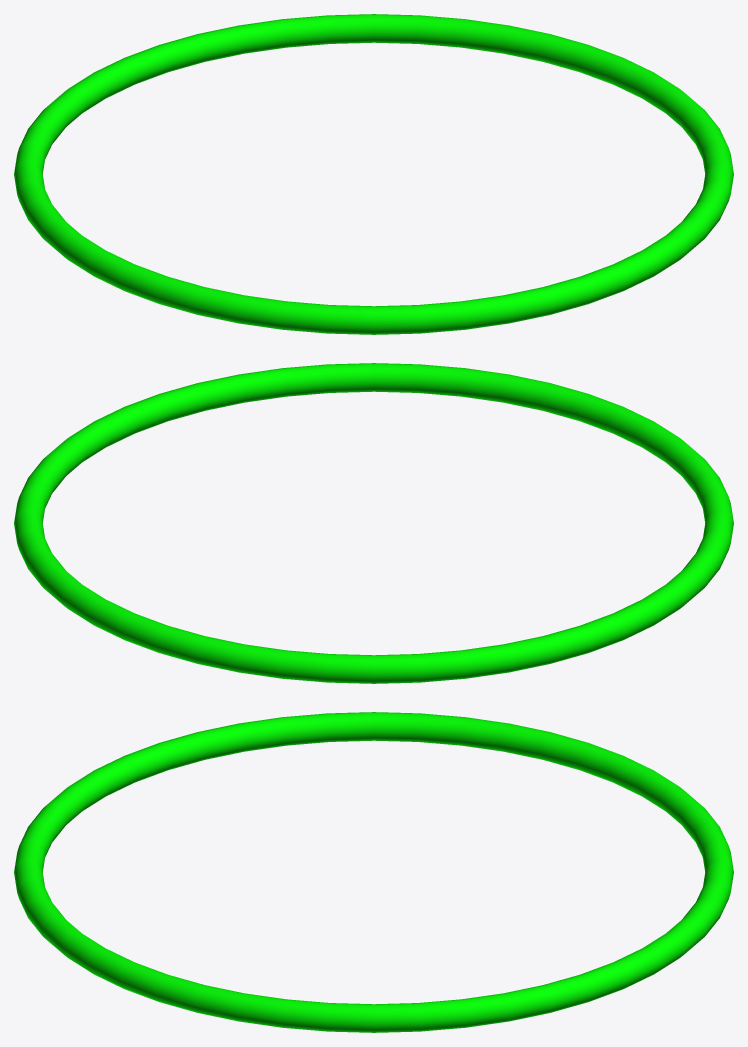
File: Giz_rot_y.obj
The picture shows the model from 3 angles, top to bottom: view 1: azimuth 30°, elevation 25°; view 2: azimuth 150°, elevation 25°; view 3: azimuth 270°, elevation 25°; orthographic projection.
Visible parts, largest first — view 1: EjeY_Torus; view 2: EjeY_Torus; view 3: EjeY_Torus.
Boxes of the visible parts, x1,y1,x2,y2 form: EjeY_Torus: (14, 14, 733, 334); EjeY_Torus: (14, 363, 733, 683); EjeY_Torus: (14, 712, 733, 1032).
Size of the model in its own units: 3.44 by 0.1375 by 3.44.
